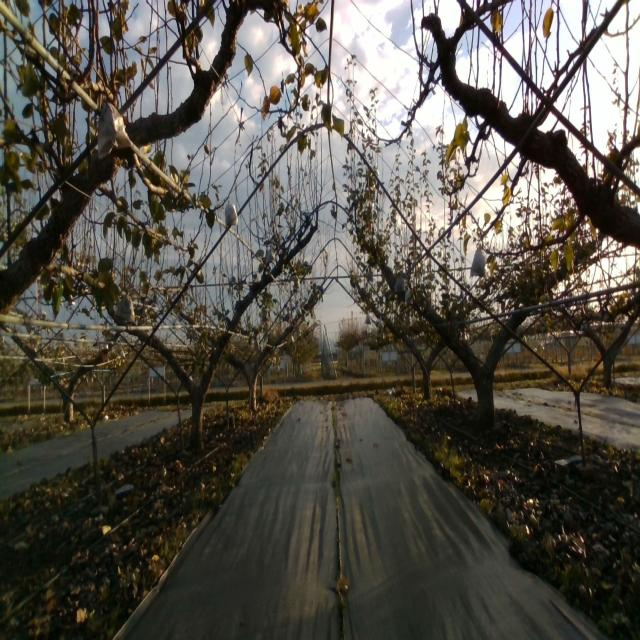pearbags: (97, 96, 133, 158), (468, 242, 486, 280), (224, 198, 239, 228), (394, 269, 406, 295), (265, 243, 277, 268)
